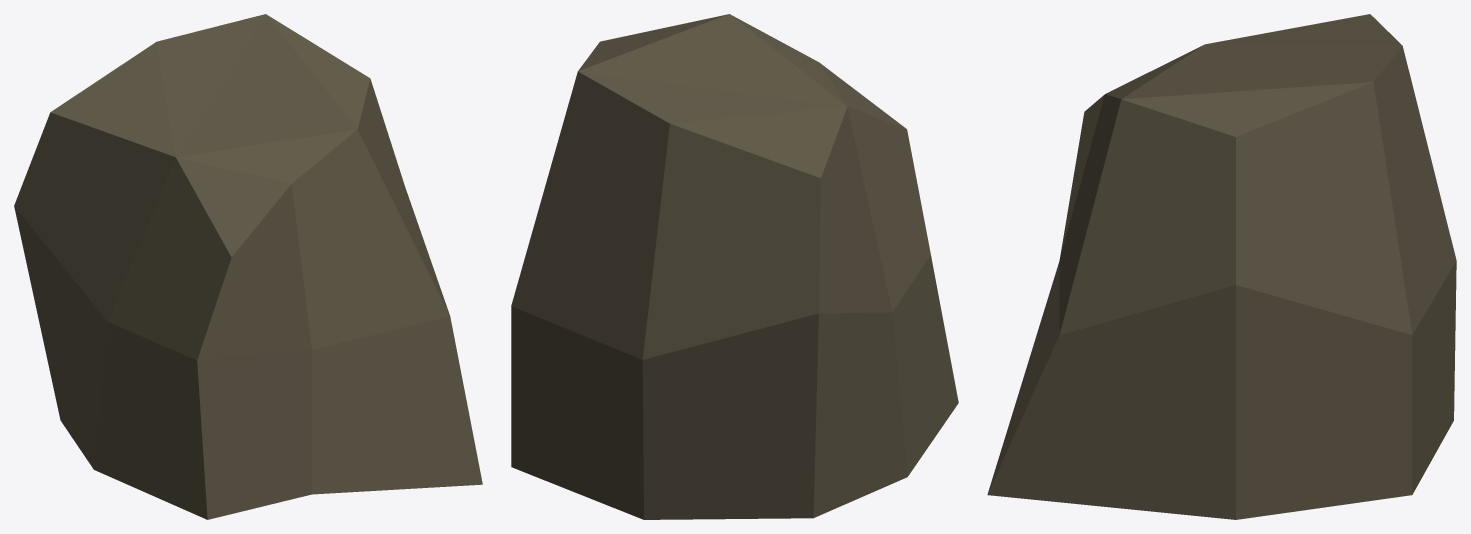
The model's file is FlatRock-A05.fbx.
3 views of the same model, side by side, from view 1: azimuth 30°, elevation 25°; view 2: azimuth 150°, elevation 25°; view 3: azimuth 270°, elevation 25° (orthographic). The views are drawn at different scales.
Parts seen in each view (by area): view 1: FlatRock-A05; view 2: FlatRock-A05; view 3: FlatRock-A05.
Boxes of the visible parts, x1=… form: FlatRock-A05: x1=14, y1=14, x2=482, y2=519; FlatRock-A05: x1=511, y1=14, x2=958, y2=519; FlatRock-A05: x1=987, y1=14, x2=1456, y2=519.
Bounding box in the file's own units: 233 × 244 × 266.
